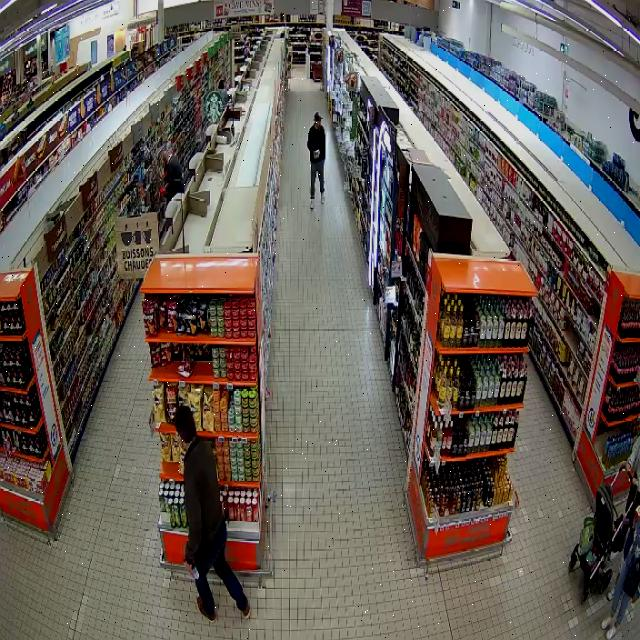article: (191, 561, 202, 582)
bags: (621, 555, 639, 600)
person: (175, 407, 249, 620), (602, 506, 639, 639), (306, 112, 325, 208)
